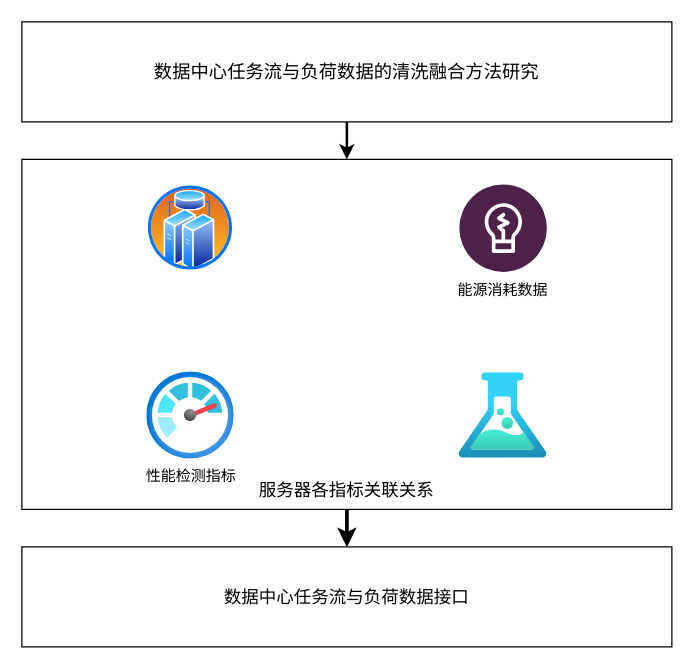
This 694x669 diagram has some shape labels left out. The centre of each missing label's shape, as x and y in pixels:
"负载数据" belongs at (502,415).
"资源利用情况" belongs at (190,227).
